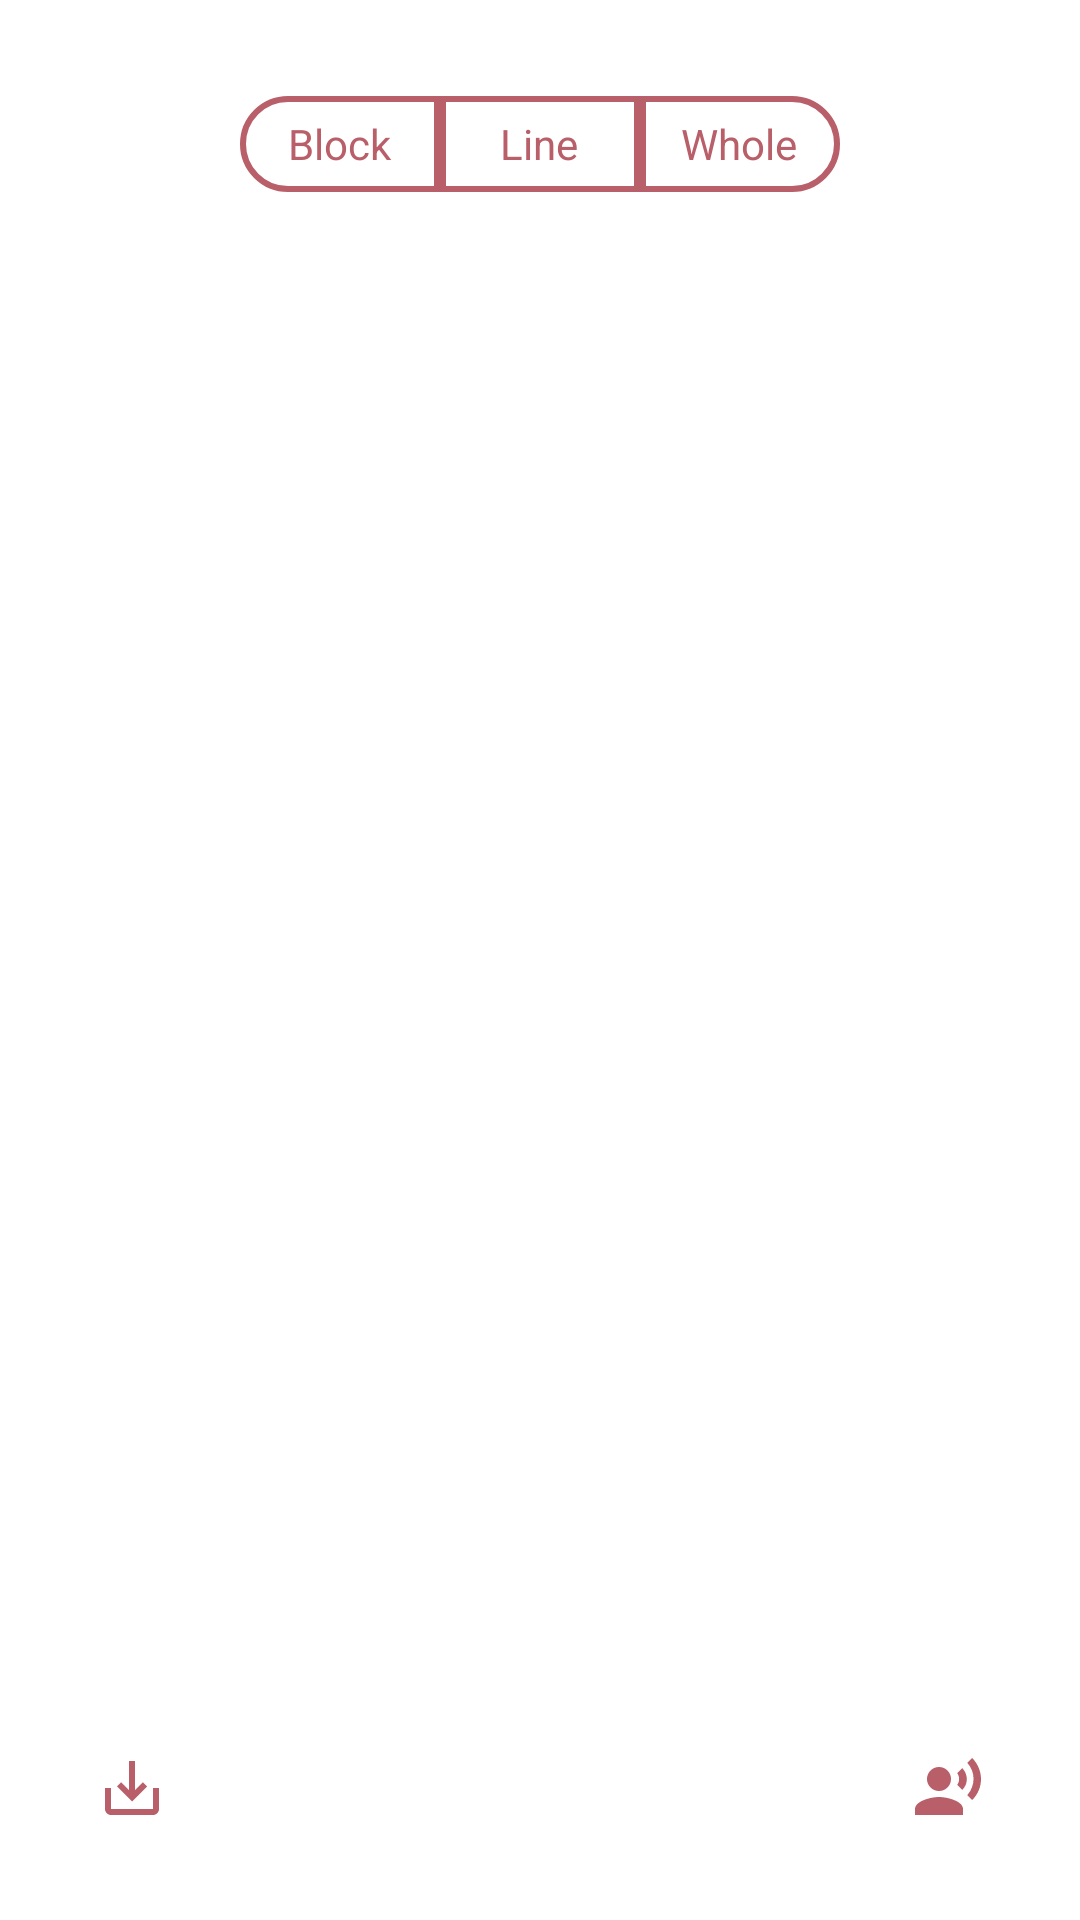

Point at icon controls on the screen. Image size 1080x1920, points as (x,y).
save: (132,1788)
voice: (948,1786)
